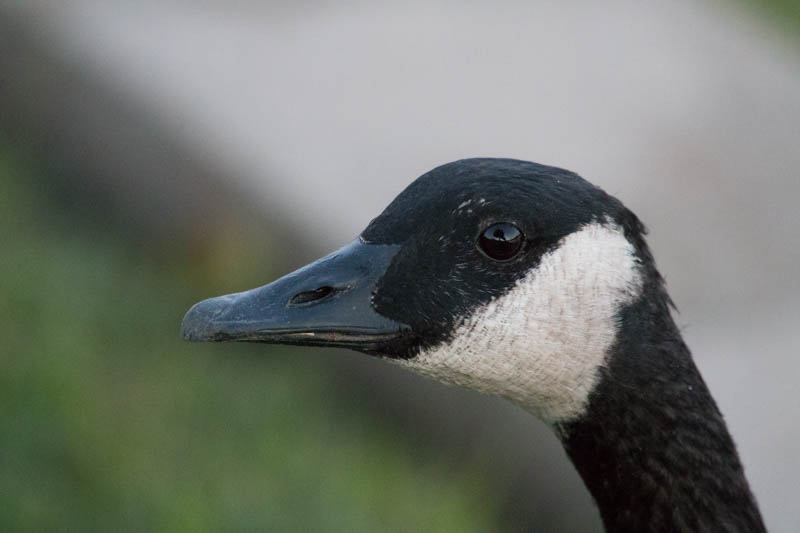goose-head: (179, 158, 670, 427)
